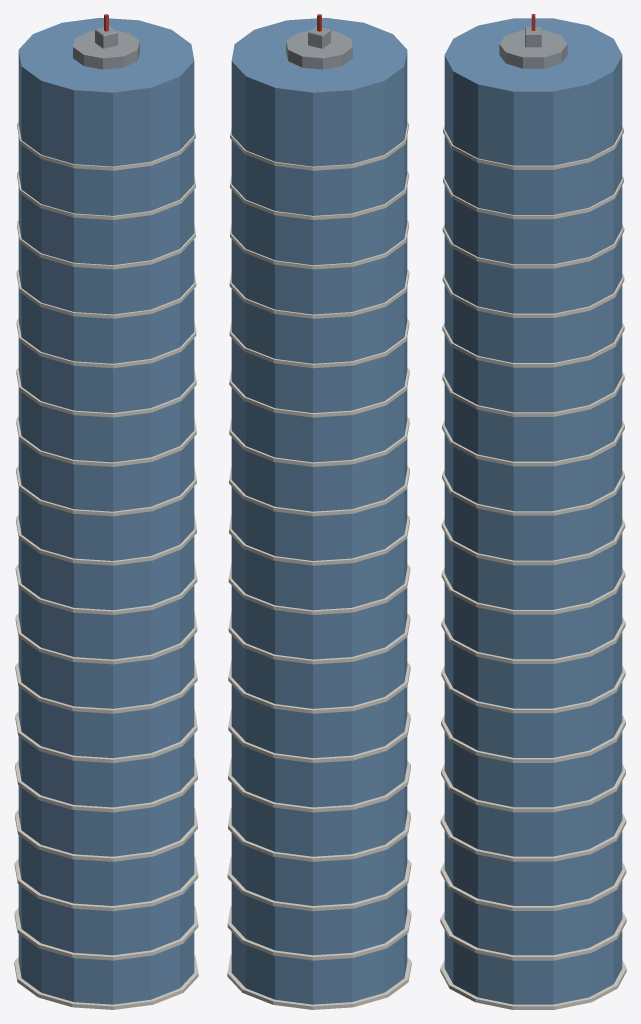
Rendered from tower_slat_h130.glb.
3 renders of one model, left to right at view 1: azimuth 30°, elevation 25°; view 2: azimuth 150°, elevation 25°; view 3: azimuth 270°, elevation 25°, orthographic.
Parts seen in each view (by area): view 1: core, crown, slat, slat.001, slat.002, slat.003, slat.004, slat.005, slat.006, slat.007, slat.008, slat.009 (+8 smaller); view 2: core, crown, slat, slat.001, slat.002, slat.003, slat.004, slat.005, slat.006, slat.007, slat.008, slat.009 (+8 smaller); view 3: core, crown, slat, slat.001, slat.003, slat.002, slat.004, slat.006, slat.005, slat.009, slat.007, slat.008 (+8 smaller).
Part boxes in pixels (<box>): core: <box>18,18,194,1004</box>; crown: <box>73,31,139,69</box>; slat: <box>14,955,198,1009</box>; slat.001: <box>14,906,198,960</box>; slat.002: <box>14,856,198,911</box>; slat.003: <box>15,807,197,861</box>; slat.004: <box>15,758,197,812</box>; slat.005: <box>15,709,197,762</box>; slat.006: <box>15,660,197,713</box>; slat.007: <box>15,611,197,664</box>; slat.008: <box>15,563,197,614</box>; slat.009: <box>16,514,196,565</box>; core: <box>231,18,407,1004</box>; crown: <box>286,31,352,69</box>; slat: <box>227,955,411,1009</box>; slat.001: <box>227,906,411,960</box>; slat.002: <box>227,856,411,911</box>; slat.003: <box>228,807,410,861</box>; slat.004: <box>228,758,410,812</box>; slat.005: <box>228,709,410,762</box>; slat.006: <box>228,660,410,713</box>; slat.007: <box>228,611,410,664</box>; slat.008: <box>228,563,410,614</box>; slat.009: <box>229,514,409,565</box>; core: <box>444,18,622,1004</box>; crown: <box>499,30,567,68</box>; slat: <box>440,960,626,1009</box>; slat.001: <box>440,911,626,960</box>; slat.003: <box>440,813,626,861</box>; slat.002: <box>440,862,626,910</box>; slat.004: <box>441,764,625,812</box>; slat.006: <box>441,666,625,713</box>; slat.005: <box>441,715,625,762</box>; slat.009: <box>441,519,625,565</box>; slat.007: <box>441,617,625,663</box>; slat.008: <box>441,568,625,614</box>.
Bounding box in the file's own units: 23.38 × 136 × 23.98.
